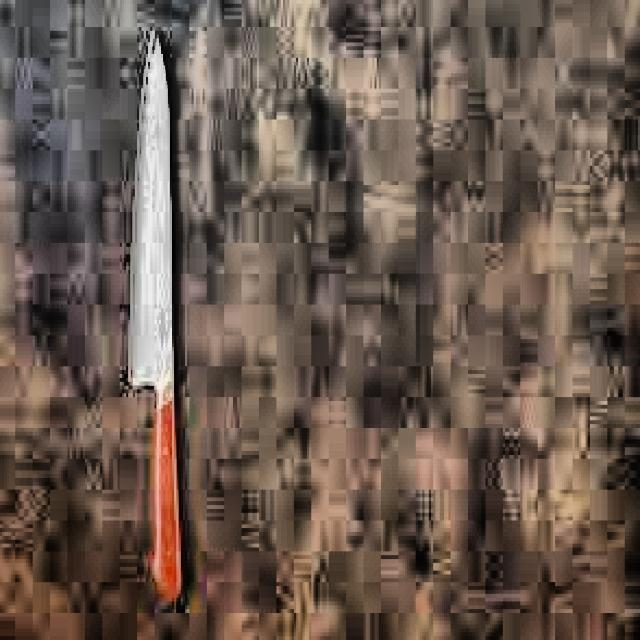knife: (129, 36, 181, 598)
